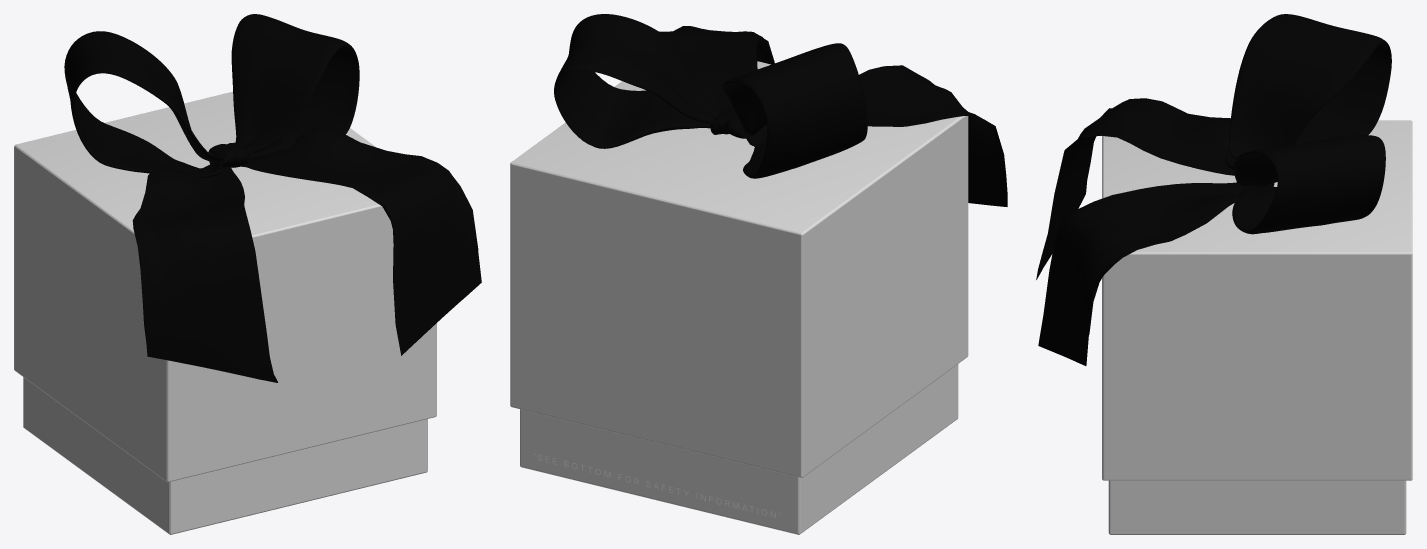
Rendered from twopartboxv3.0.1.glb.
The picture shows the model from 3 angles, left to right: view 1: azimuth 30°, elevation 25°; view 2: azimuth 150°, elevation 25°; view 3: azimuth 270°, elevation 25°; orthographic projection. The views are drawn at different scales.
Parts seen in each view (by area): view 1: Ribbon, topfrontside, topleftside, topside, bottomfrontside1, bottomleftside; view 2: topbackside, Ribbon, topleftside, topside, bottombackside1, bottomleftside, Safetynote; view 3: toprightside, Ribbon, bottomrightside, topside.
Part boxes in pixels (x1,y1,x2,y2): Ribbon: [64, 14, 481, 382]; topfrontside: [167, 205, 436, 482]; topleftside: [14, 145, 167, 481]; topside: [15, 91, 379, 236]; bottomfrontside1: [170, 419, 427, 534]; bottomleftside: [23, 377, 169, 534]; topbackside: [510, 163, 802, 477]; Ribbon: [554, 14, 1007, 206]; topleftside: [802, 116, 968, 477]; topside: [511, 61, 962, 233]; bottombackside1: [520, 409, 799, 534]; bottomleftside: [799, 364, 958, 534]; Safetynote: [534, 453, 780, 518]; toprightside: [1103, 253, 1411, 480]; Ribbon: [1036, 14, 1391, 365]; bottomrightside: [1109, 480, 1405, 534]; topside: [1103, 120, 1411, 253].
Bounding box in the file's own units: 0.1366 × 0.1554 × 0.1315.
Materials: 3 (1 with a texture image).
